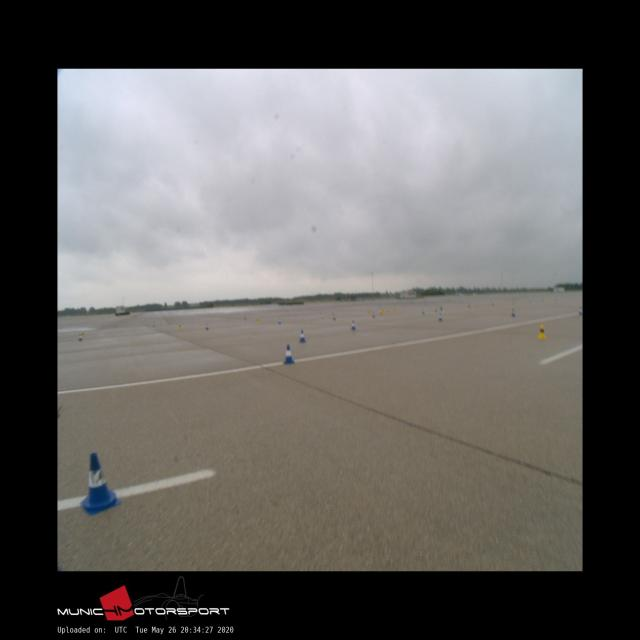blue_cone: (80, 452, 120, 514), (282, 345, 294, 363), (299, 329, 305, 342), (351, 320, 356, 330), (438, 312, 443, 320)
yellow_cone: (537, 324, 545, 339)
